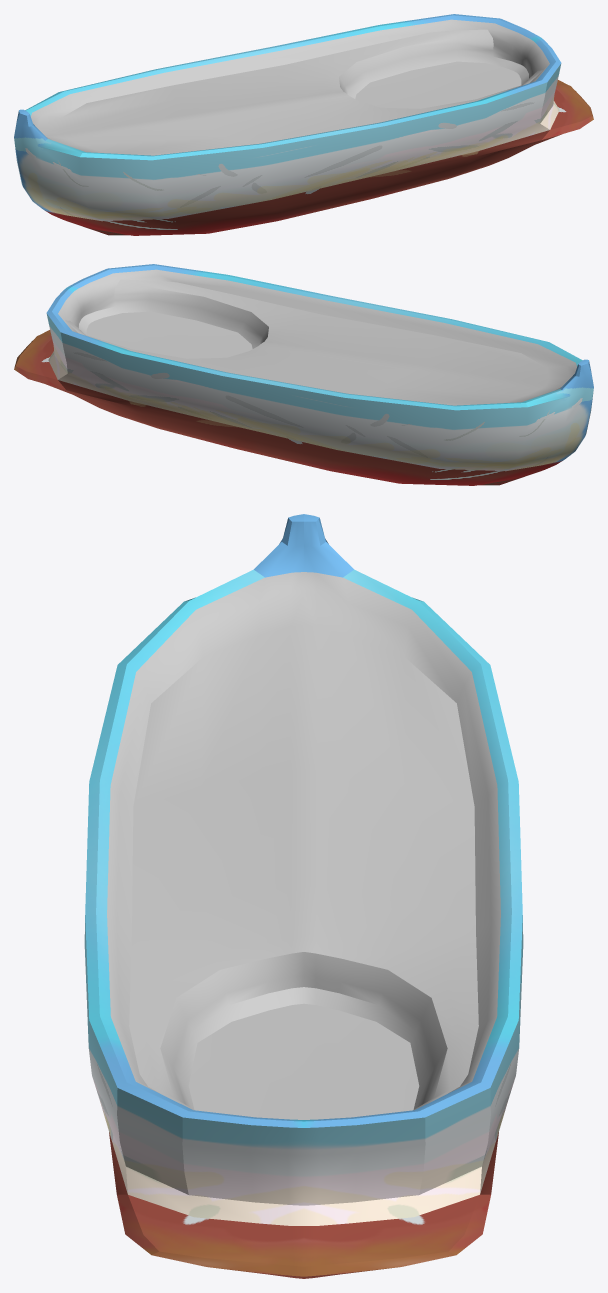
Rendered from boat.fbx.
3 renders of one model, top to bottom at view 1: azimuth 30°, elevation 25°; view 2: azimuth 150°, elevation 25°; view 3: azimuth 270°, elevation 25°, orthographic. The views are drawn at different scales.
Visible parts, largest first — view 1: applieboat; view 2: applieboat; view 3: applieboat.
Boxes of the visible parts, bbox=[...] form: applieboat: bbox=[14, 14, 593, 235]; applieboat: bbox=[14, 264, 593, 485]; applieboat: bbox=[84, 514, 523, 1278].
Bounding box in the file's own units: 613 × 163 × 208.
